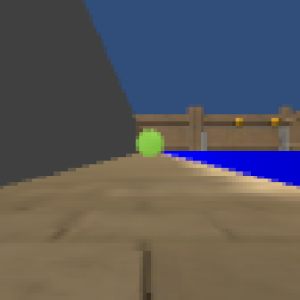goodGoal: (137, 126, 163, 160)
platform: (164, 149, 300, 201)
wall: (1, 1, 134, 179)
